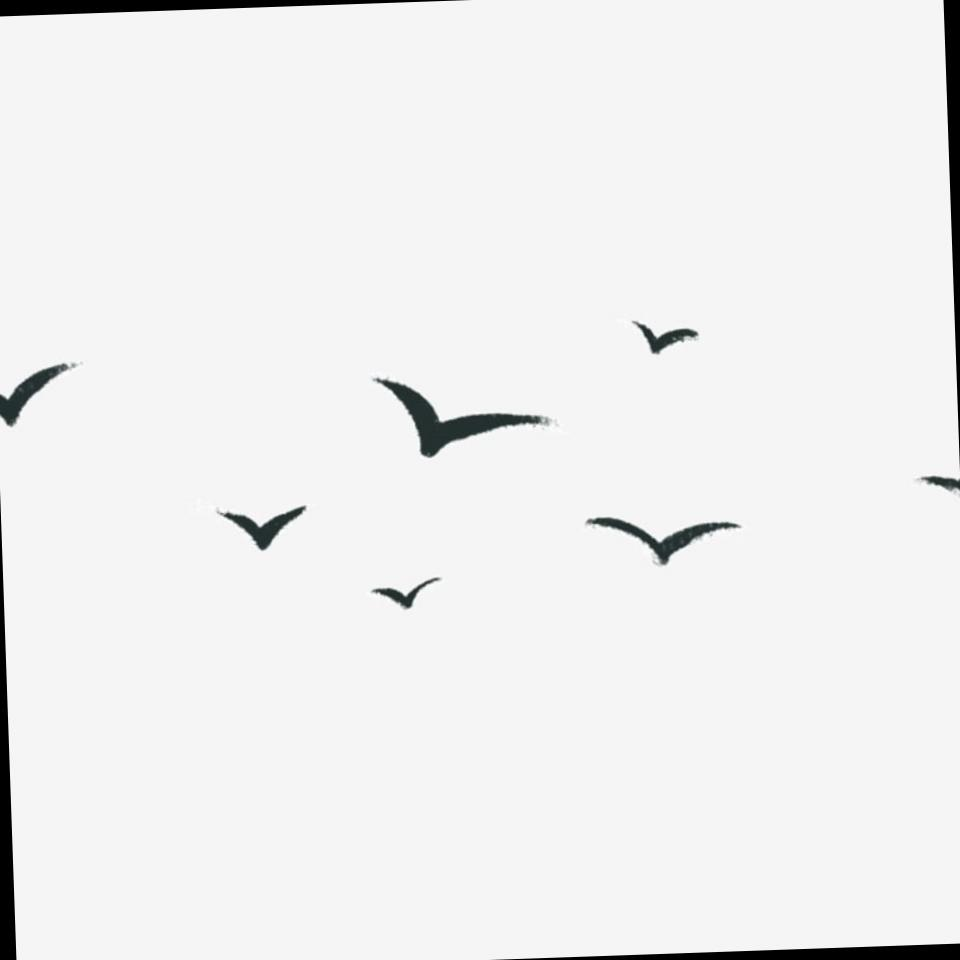bird: (352, 354, 572, 464), (558, 494, 760, 582), (190, 481, 328, 563), (608, 300, 724, 372), (358, 558, 472, 626)
